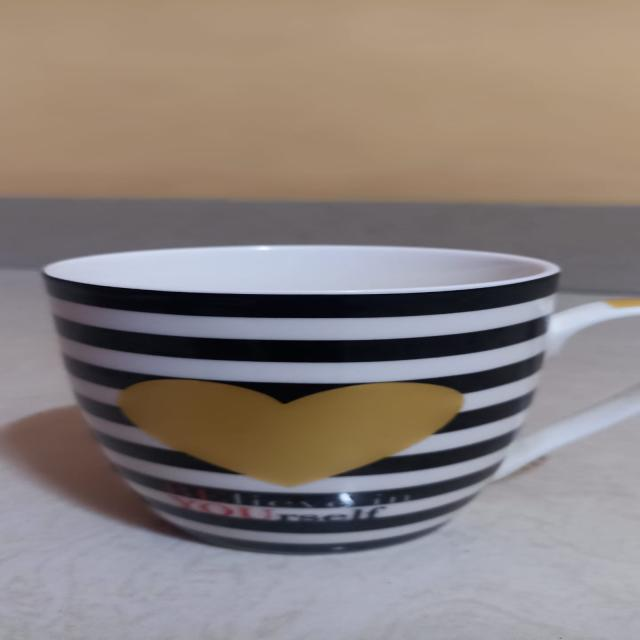cup: (24, 232, 640, 554)
